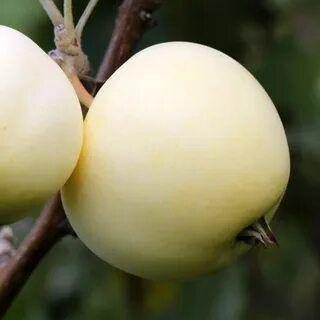Apple: (62, 42, 290, 280)
